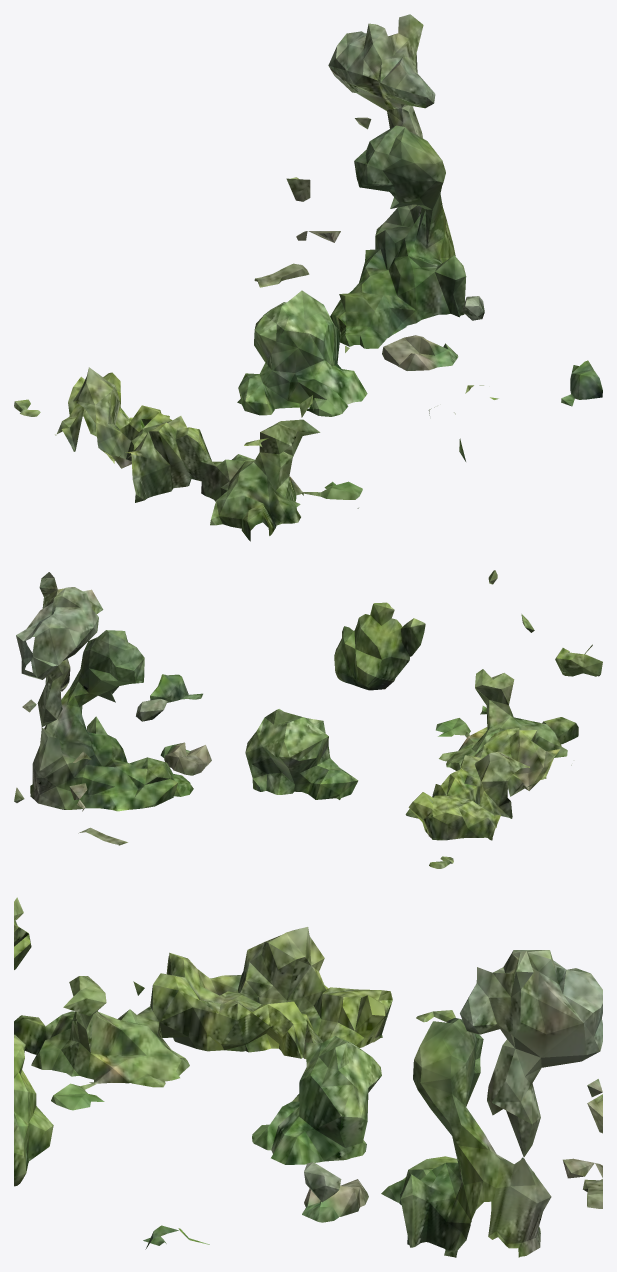
3 renders of one model, top to bottom at view 1: azimuth 30°, elevation 25°; view 2: azimuth 150°, elevation 25°; view 3: azimuth 270°, elevation 25°, orthographic. The views are drawn at different scales.
Bounding box in the file's own units: 26.11 × 14.35 × 26.11.
2 materials, 2 textured.
